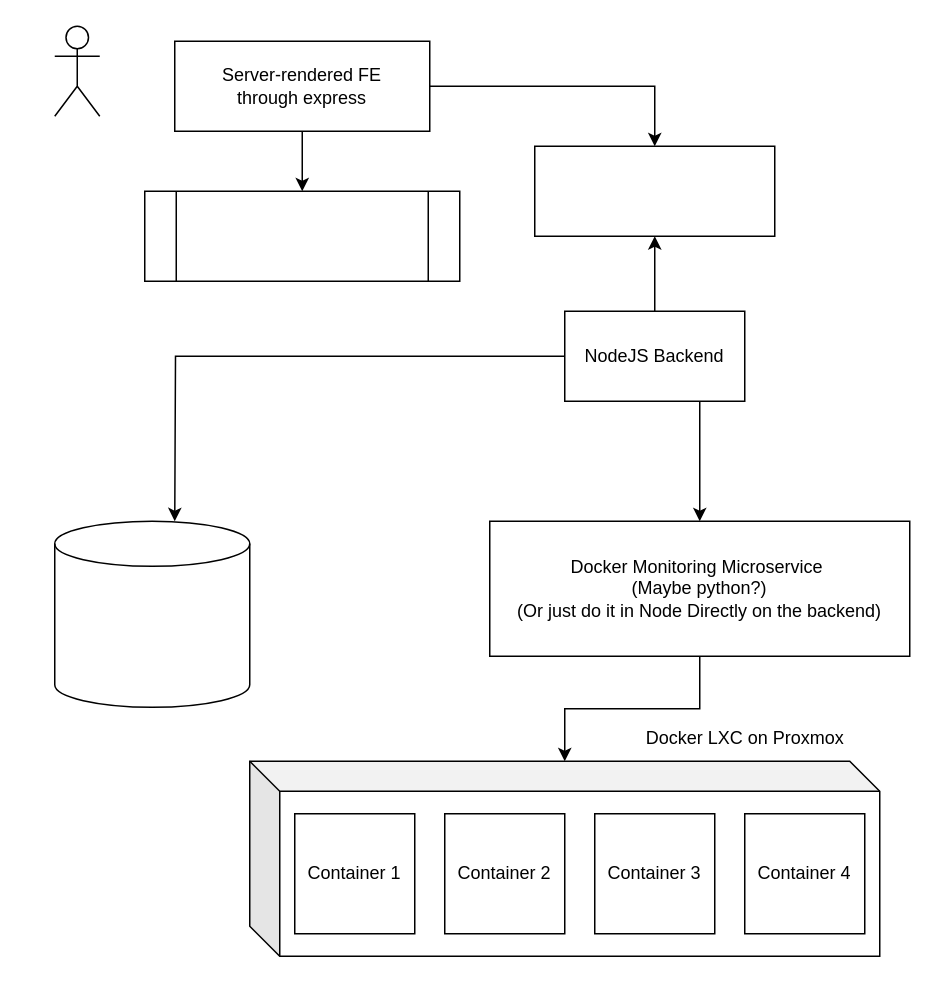
Some shapes in this 936 by 983 pixel diagram are drawn without their labels. Here are the shapes that lost their labels. From the top down, the box of each, then its label:
(53, 25, 100, 116): My Grandma
(533, 145, 775, 236): Express HTTP server
(143, 190, 460, 281): Dynamic APP list based on JSON config or docker-compose.yml
(53, 520, 250, 707): DuckDB Database 🪿
